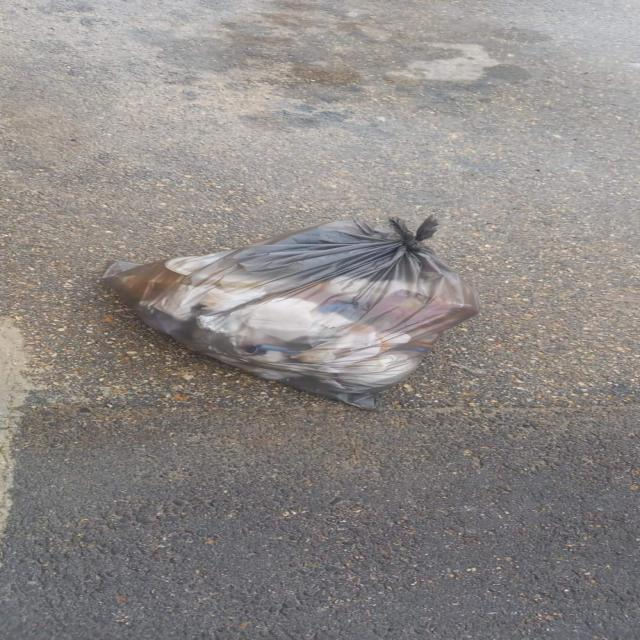Recycled Waste -Grey or Green Bag-: (103, 216, 488, 416)
